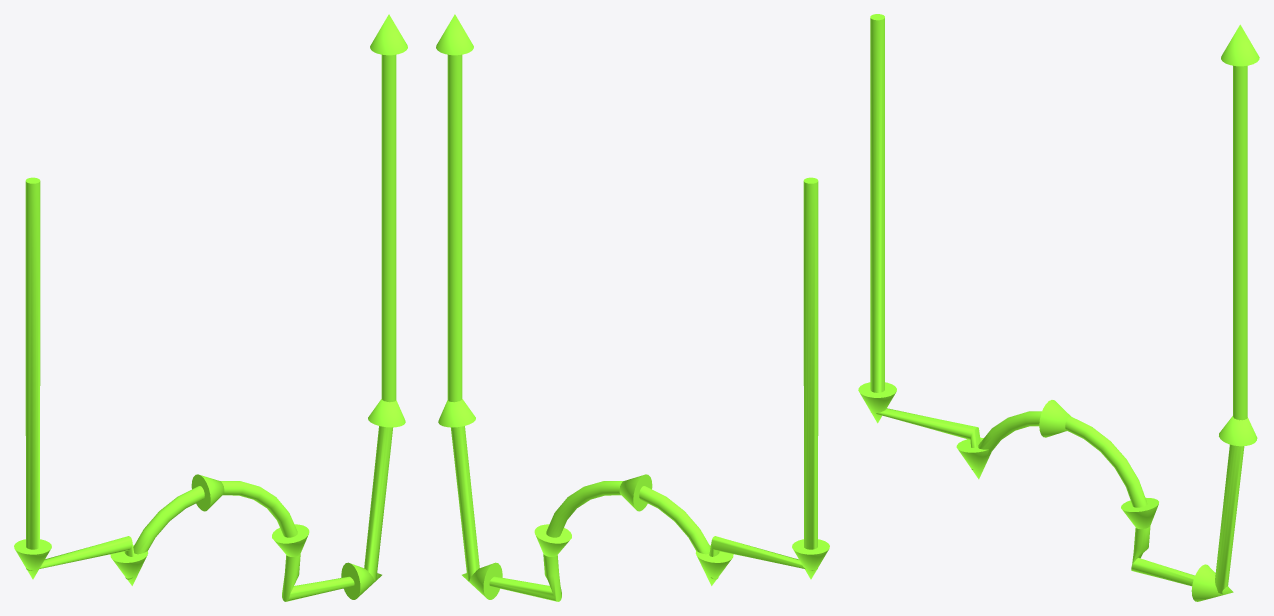
File: rotary_vacuum_pump_flow.glb
3 views of the same model, side by side, from view 1: azimuth 30°, elevation 25°; view 2: azimuth 150°, elevation 25°; view 3: azimuth 330°, elevation 25° (orthographic).
Visible parts, largest first — view 1: gas; view 2: gas; view 3: gas.
Part boxes in pixels (x1,y1,x2,y2): gas: (14, 14, 407, 601); gas: (436, 14, 829, 601); gas: (858, 14, 1259, 601).
Bounding box in the file's own units: 0.306 × 0.4324 × 0.026.
